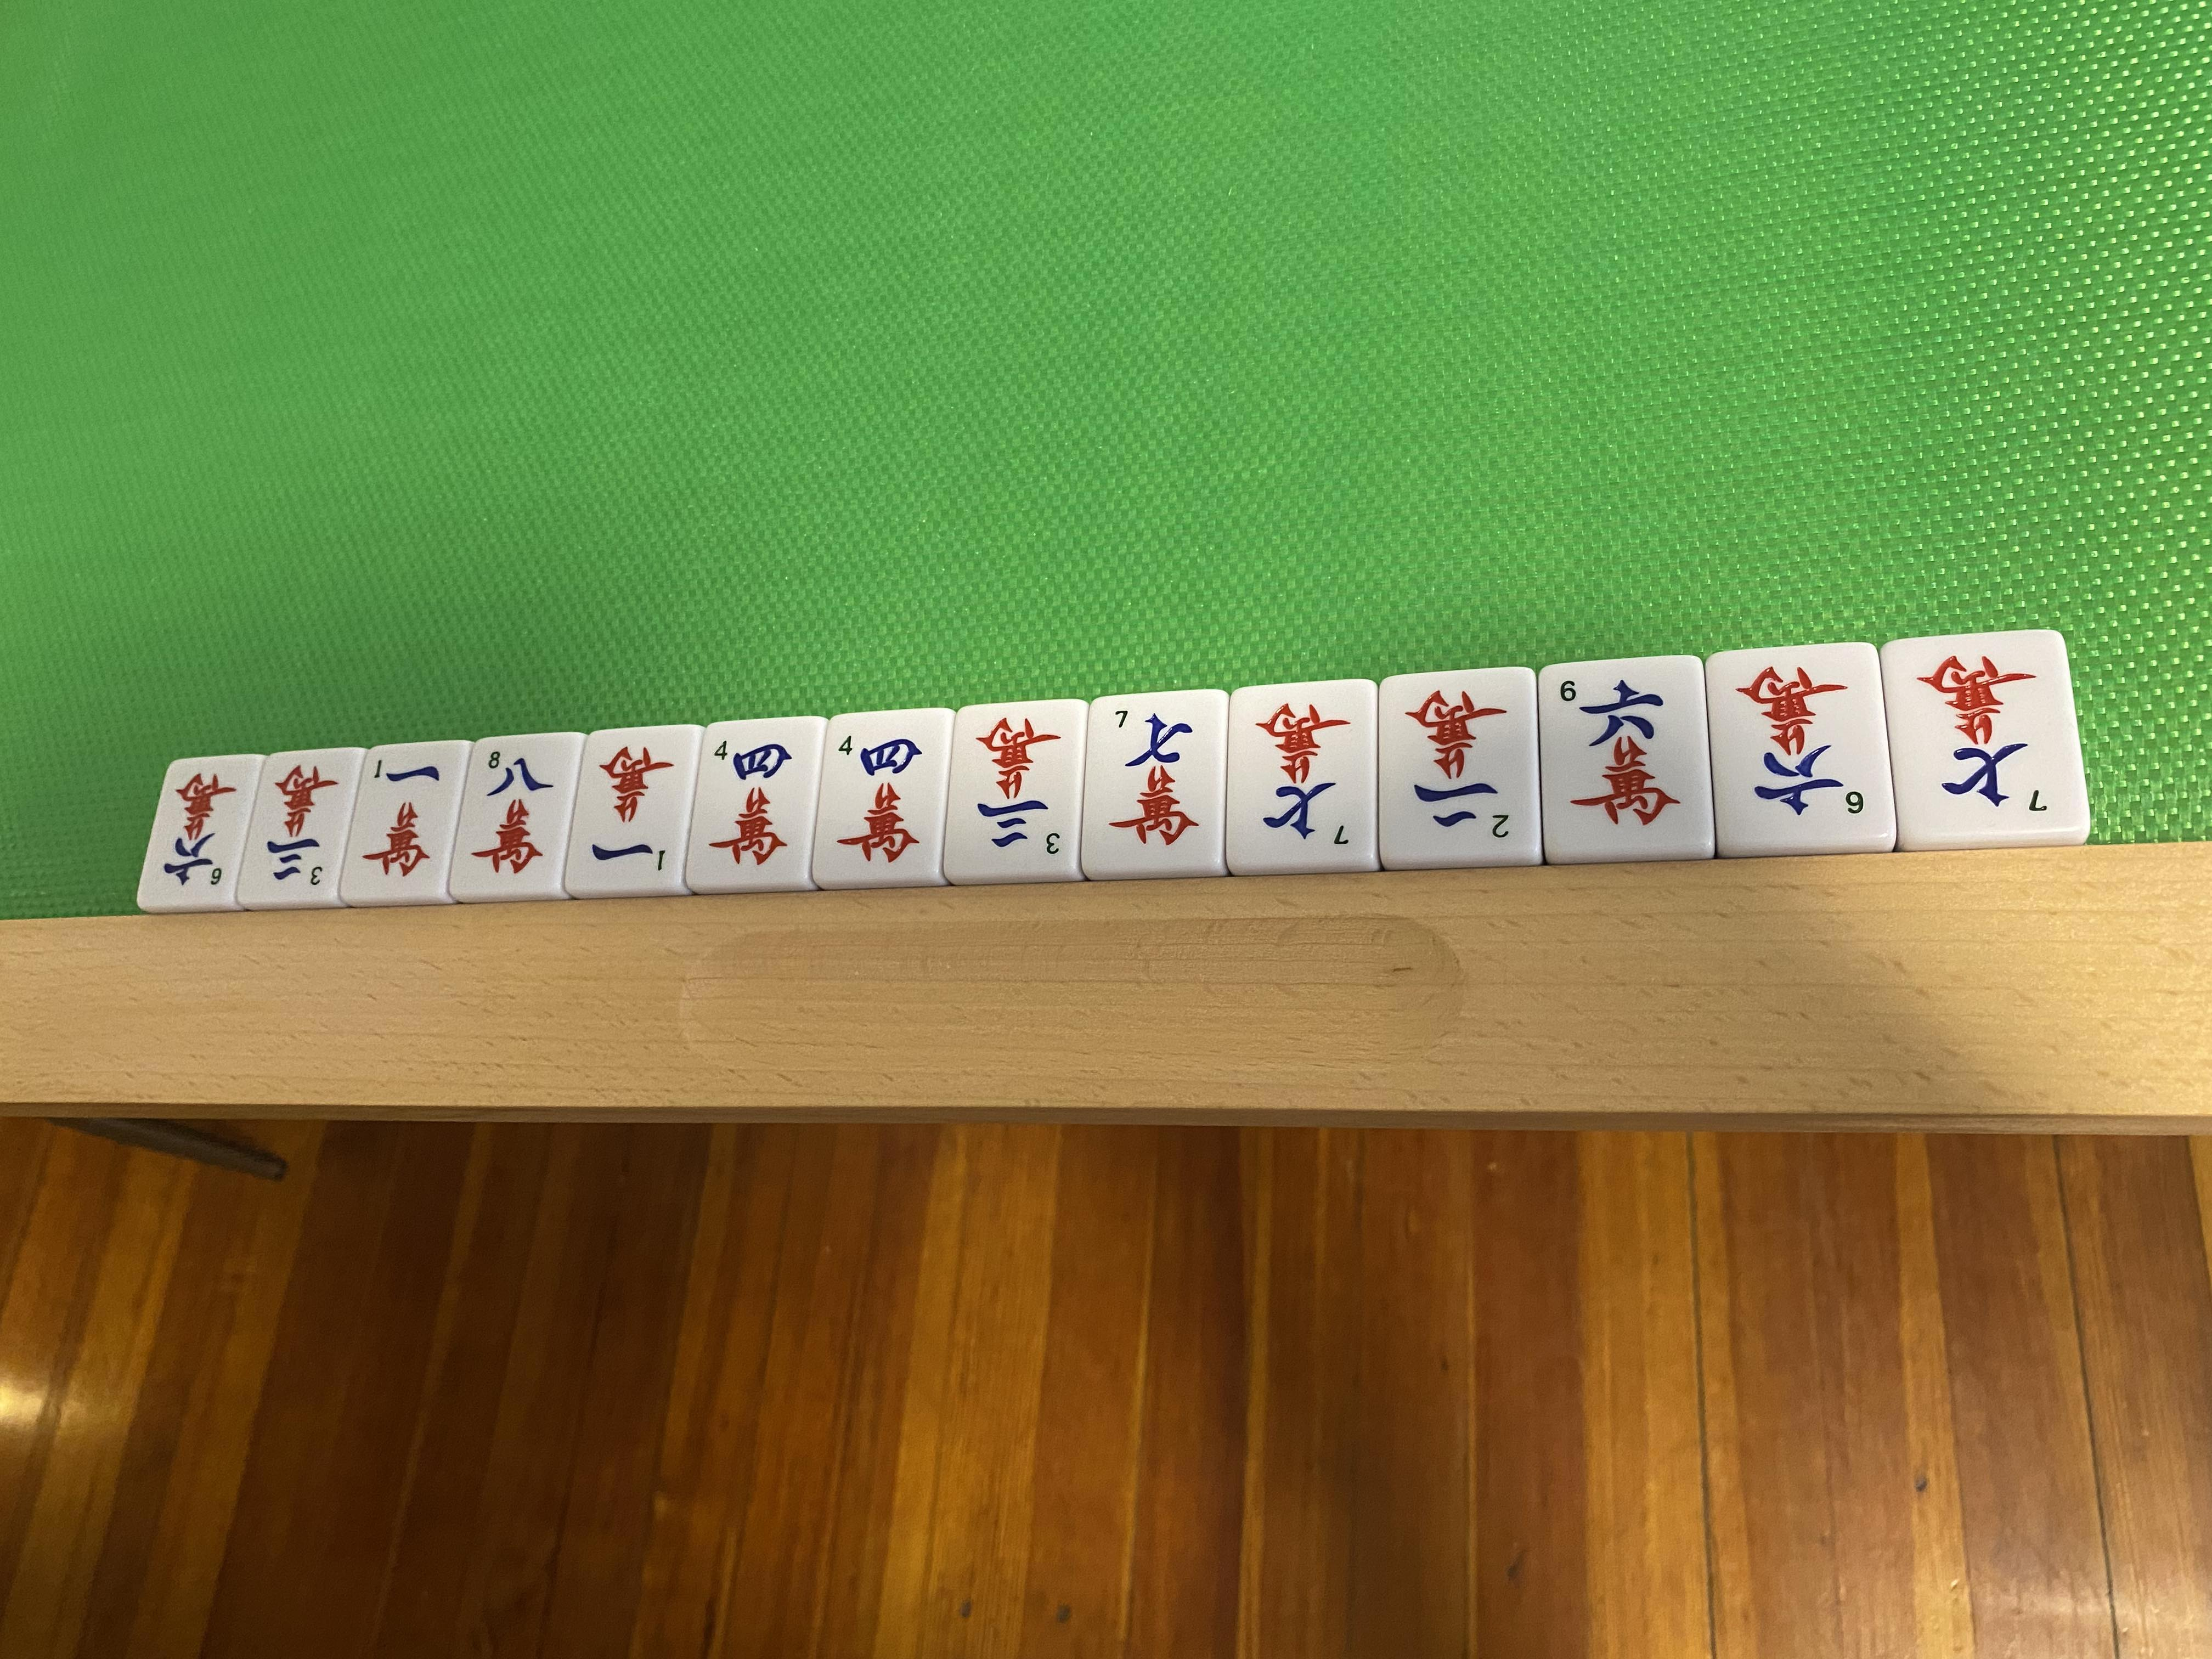character-eight: (474, 742, 550, 880)
character-four: (707, 730, 803, 877), (831, 734, 935, 868)
character-one: (589, 749, 672, 877), (366, 756, 441, 882)
character-seven: (1919, 647, 2052, 821), (1099, 701, 1212, 859), (1254, 697, 1367, 854)
character-six: (1735, 664, 1871, 828), (1557, 669, 1693, 828), (164, 770, 232, 896)
character-three: (972, 711, 1064, 859), (265, 760, 333, 892)
character-two: (1400, 685, 1526, 845)
